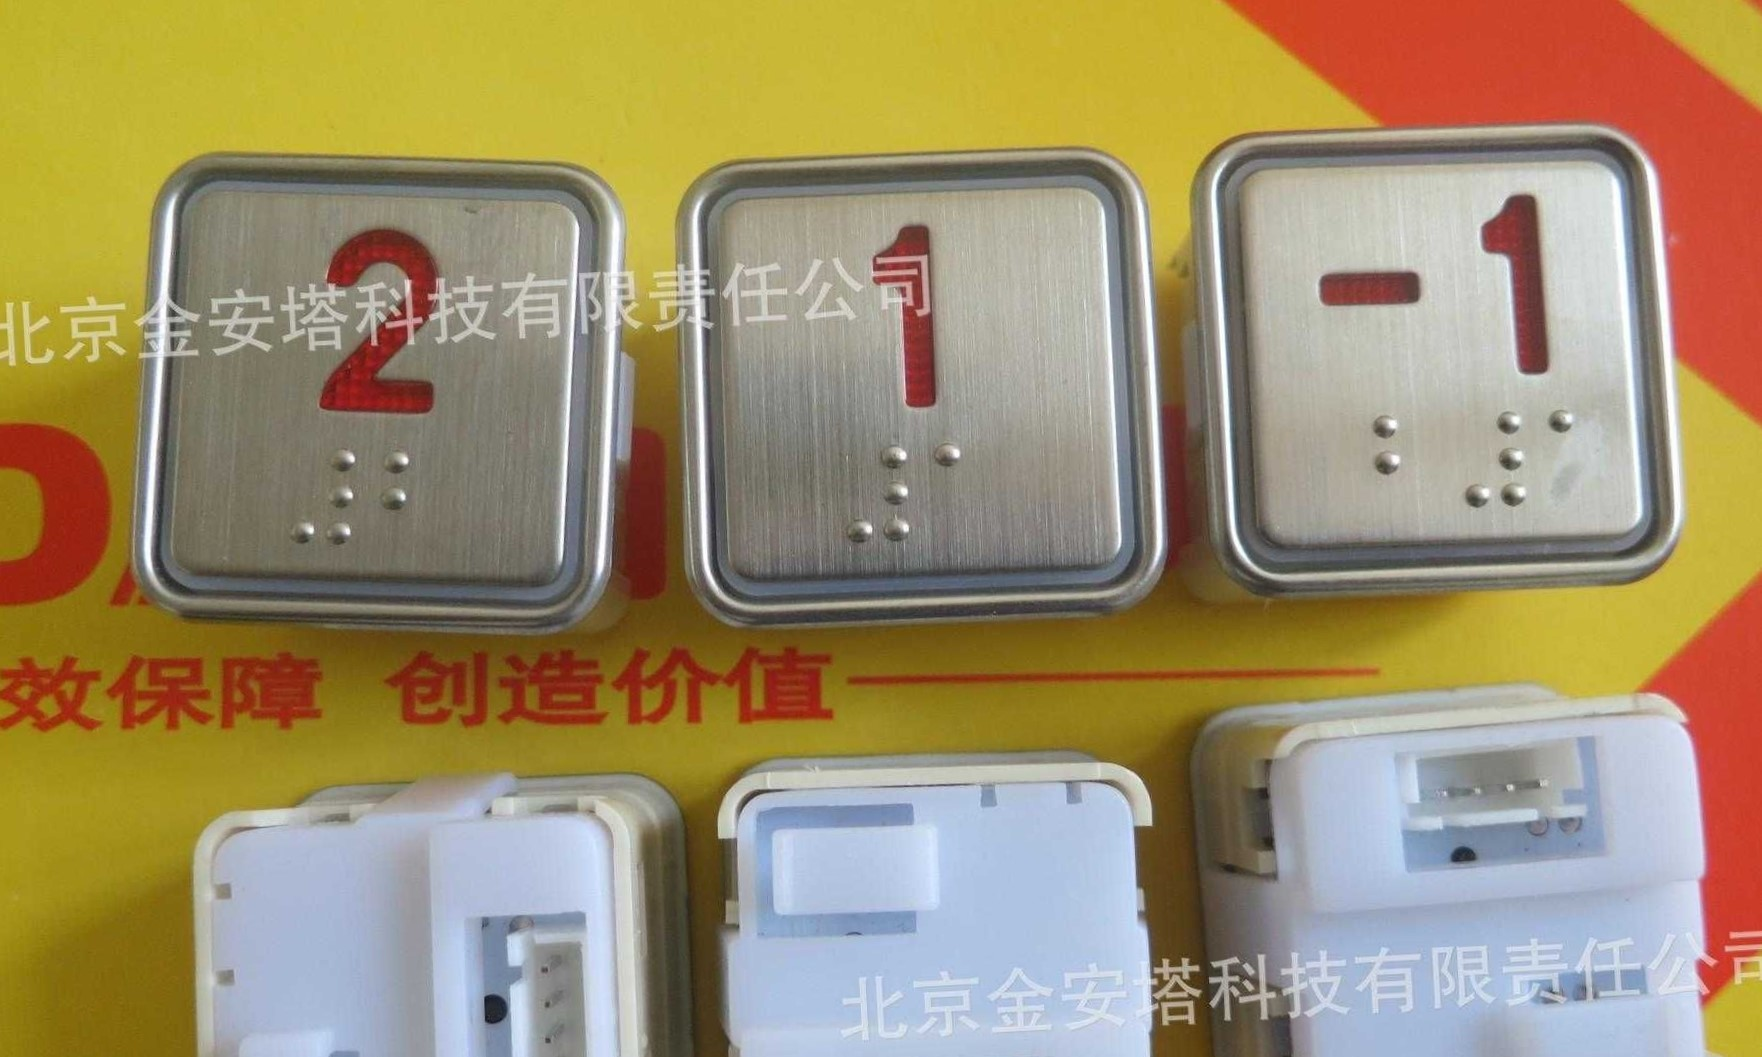Braille: (1448, 408, 1538, 517), (1544, 405, 1625, 512), (1365, 410, 1448, 510), (839, 432, 913, 542), (926, 440, 997, 542), (381, 440, 441, 551), (293, 447, 356, 547)
